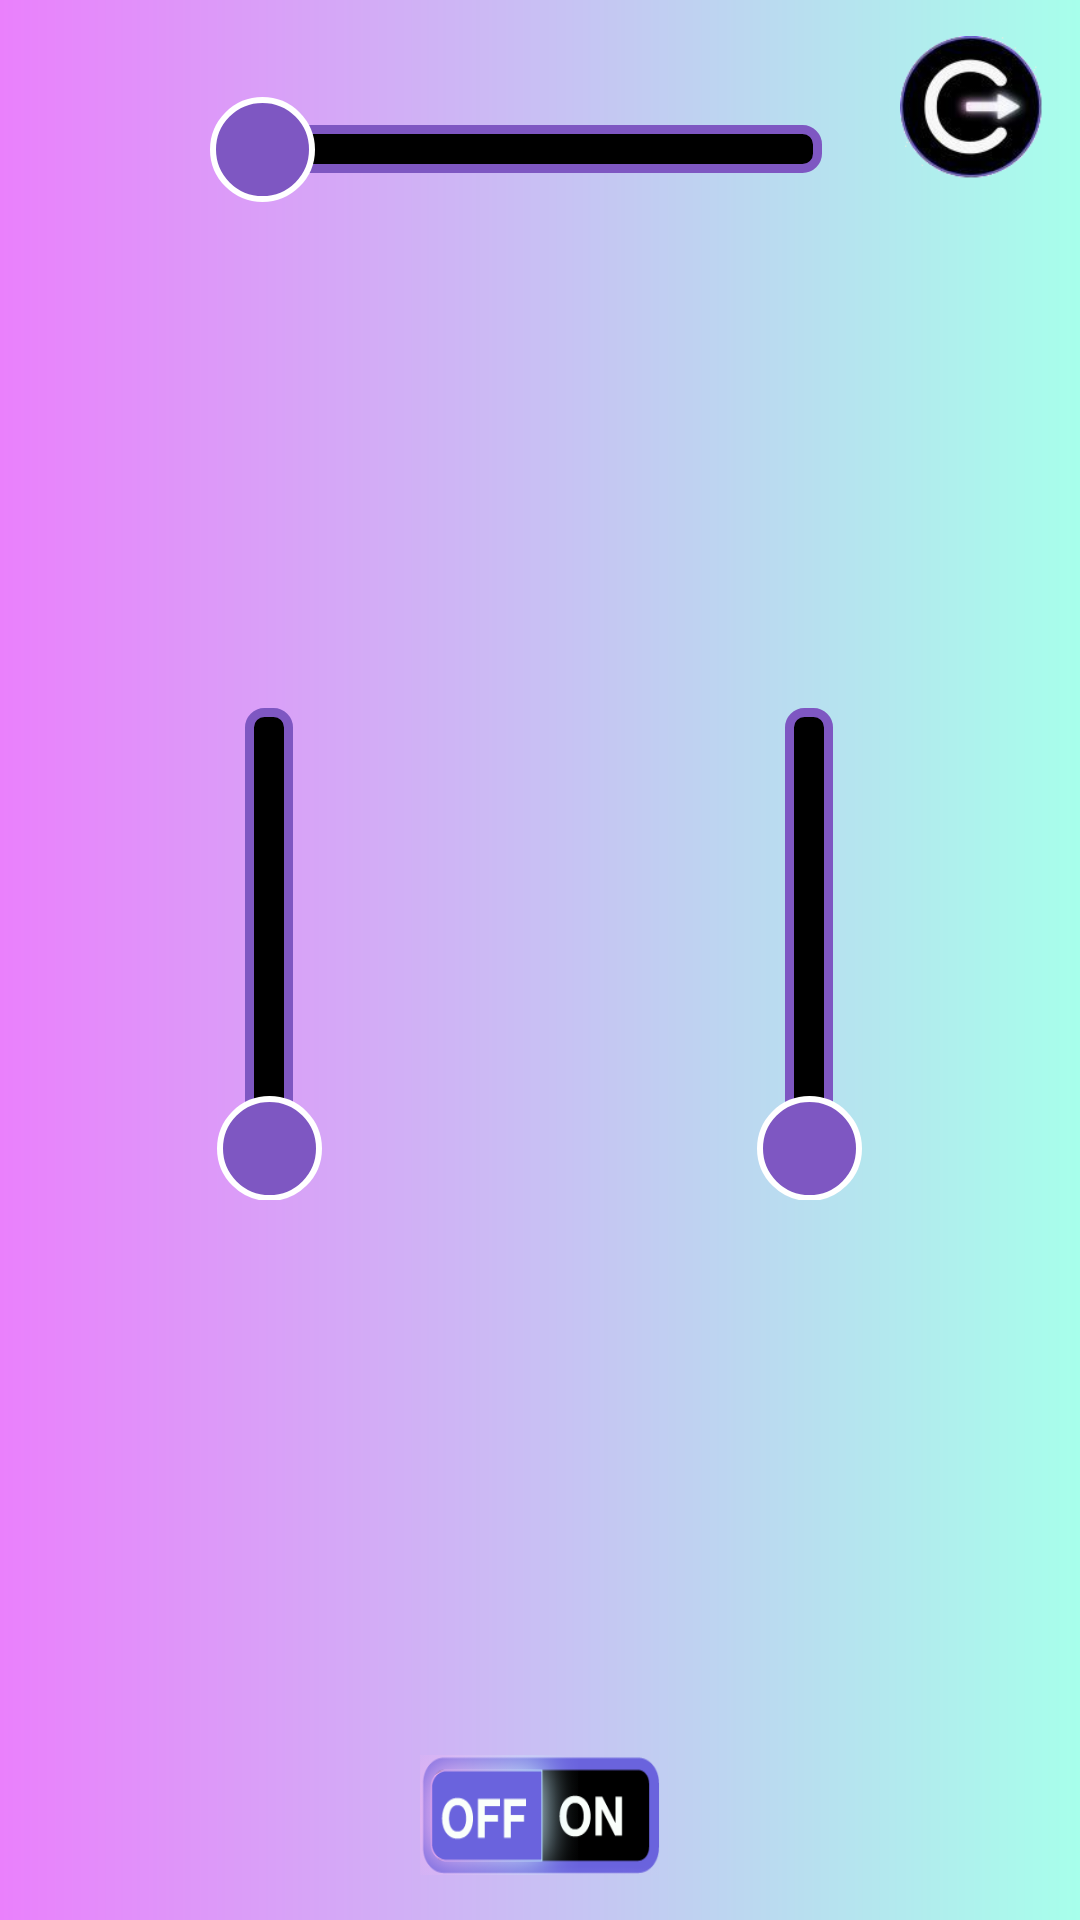

Icons on this 1080*1920 Android screen, each with its box as (x1, y1, x2, y2):
disconnect: (900, 36, 1042, 178)
